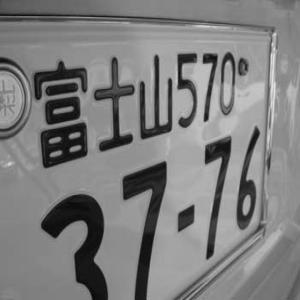Plate: (0, 16, 276, 299)
